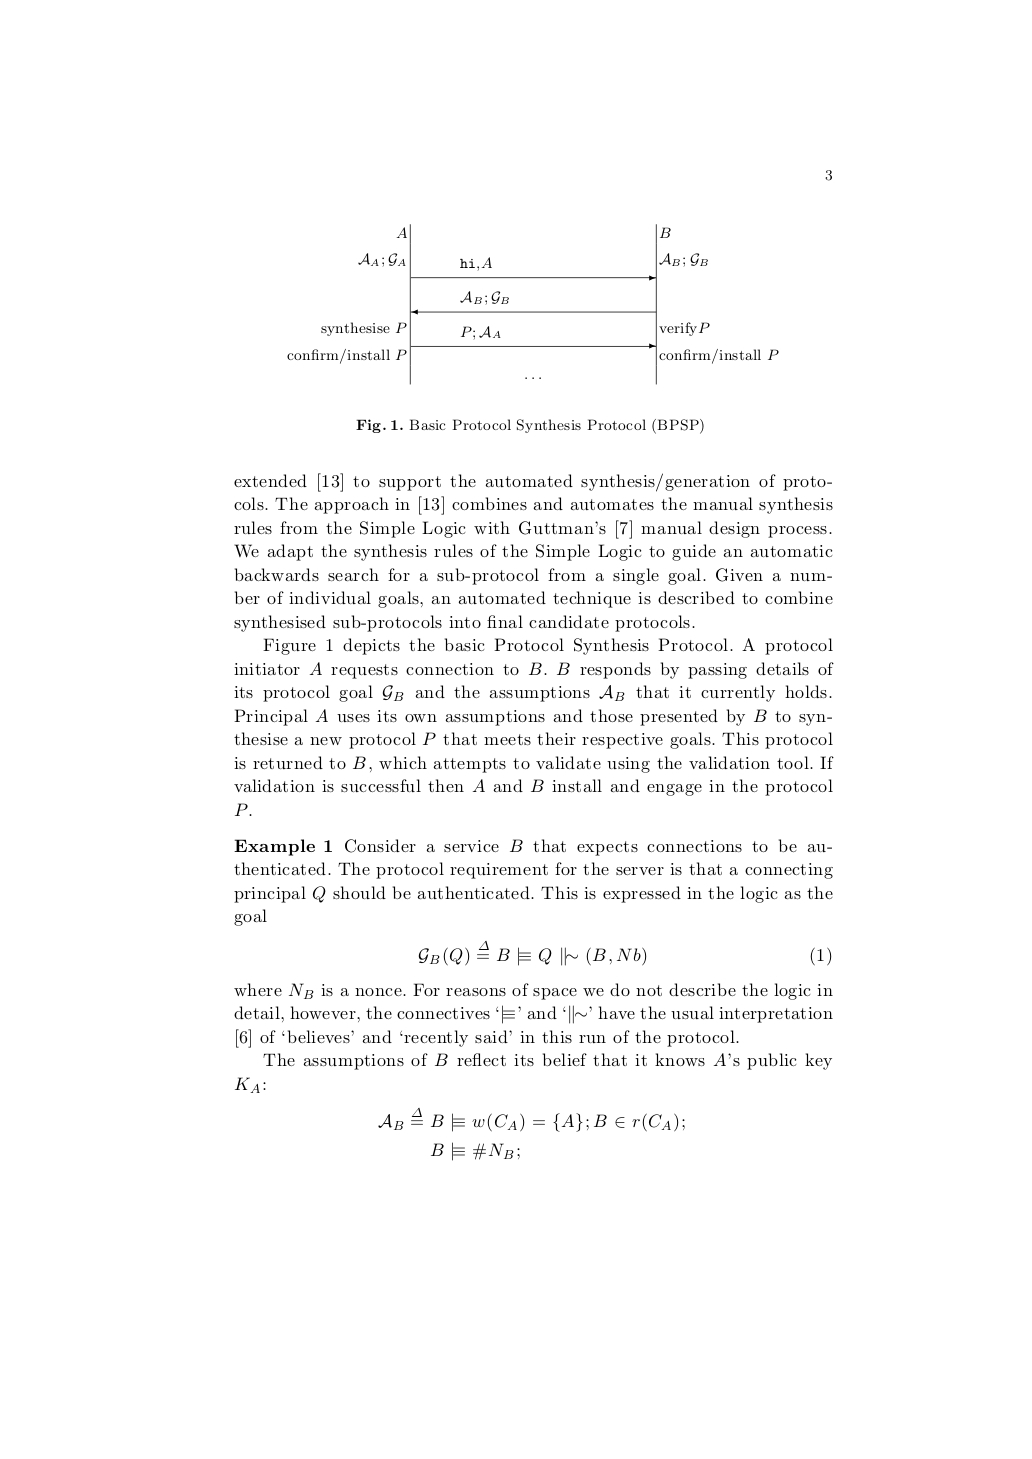figure: (287, 223, 778, 385)
formula: (418, 939, 831, 966), (378, 1106, 684, 1132), (430, 1141, 519, 1161)
